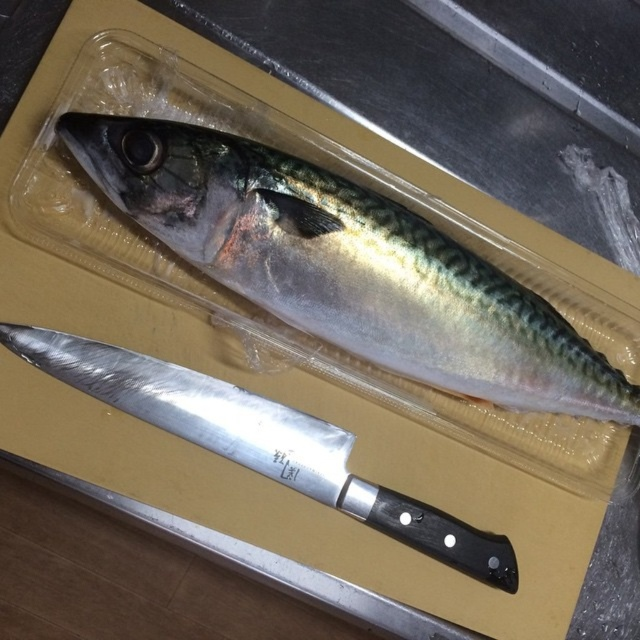Fish: (68, 52, 638, 467)
